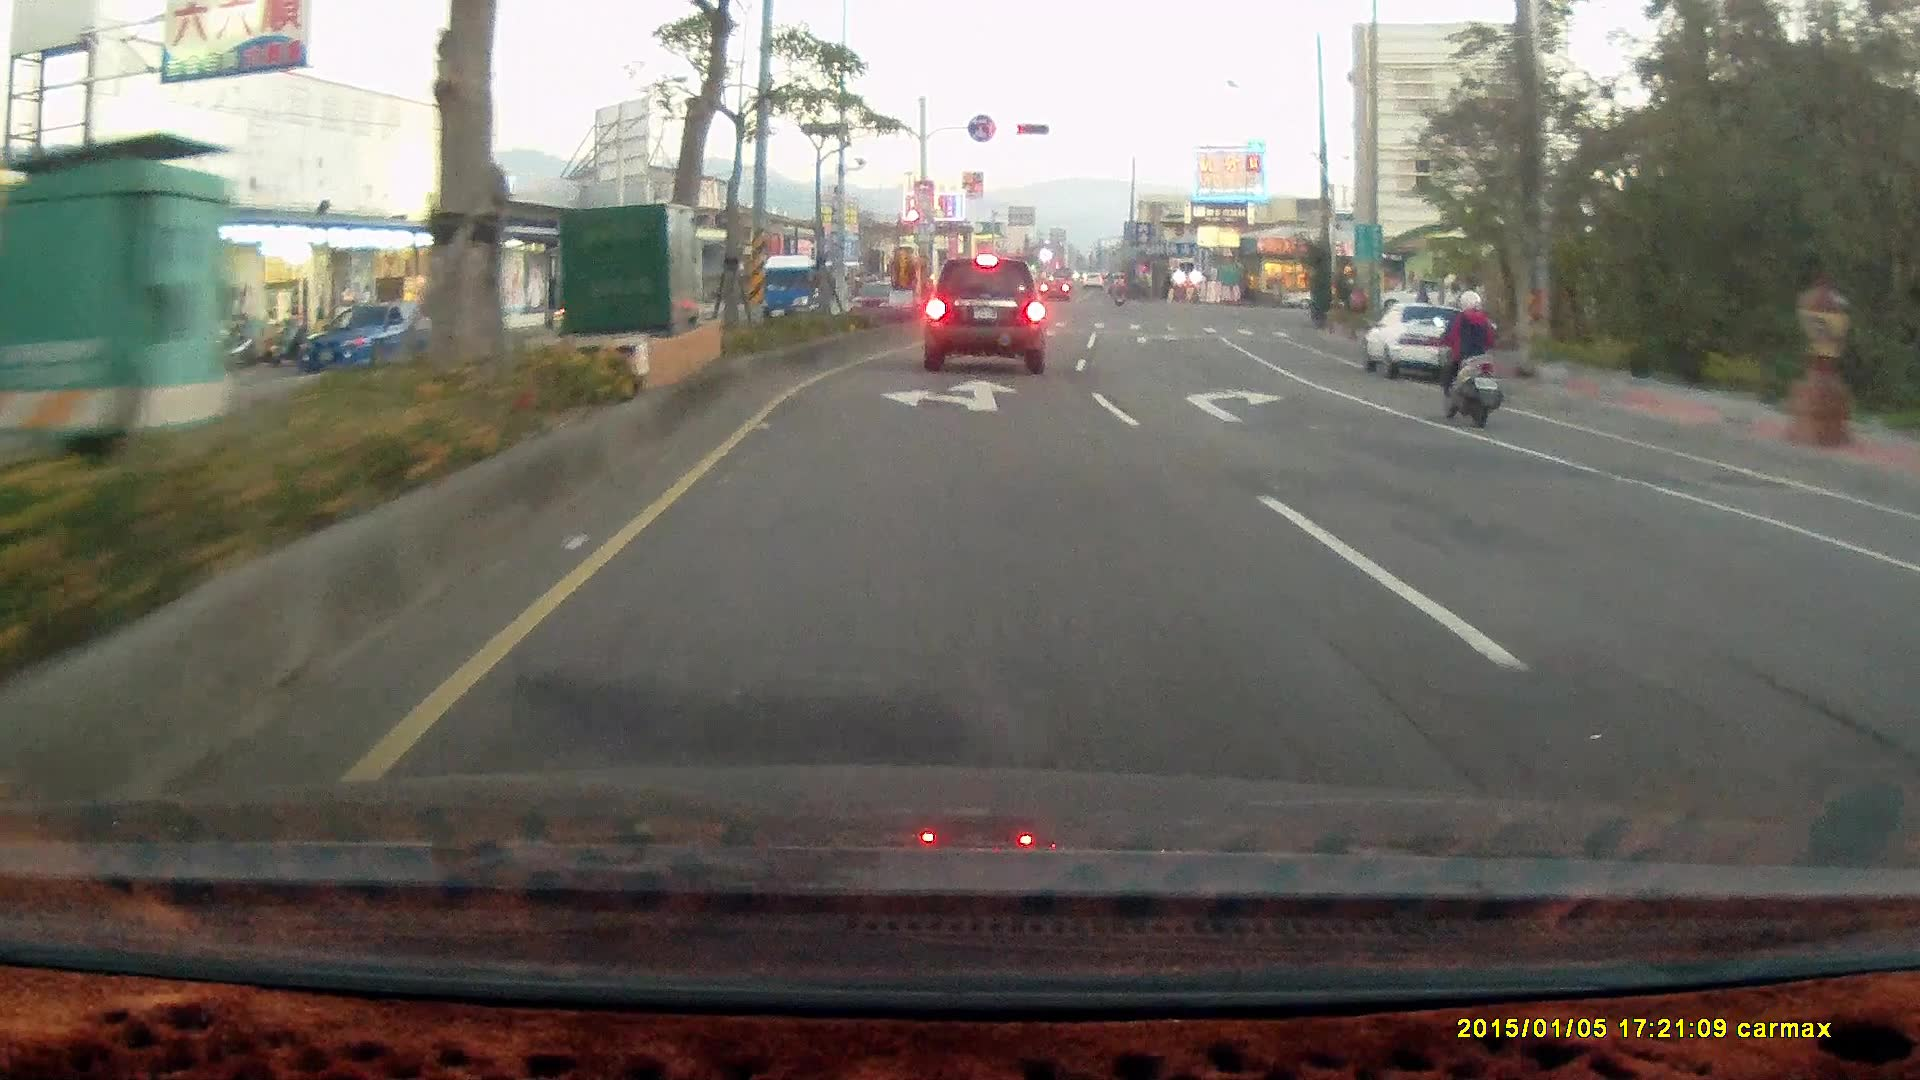rider: (1428, 284, 1506, 424)
vehicle: (921, 255, 1044, 373), (1365, 304, 1502, 381), (1359, 301, 1488, 383), (303, 300, 440, 373), (1896, 493, 1920, 836), (1883, 528, 1920, 690), (1374, 275, 1464, 313)
